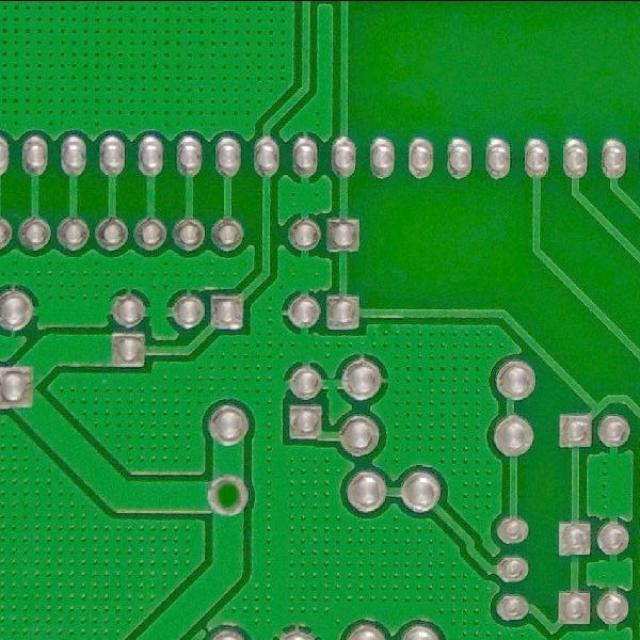Missing_Hole: (203, 472, 255, 520)
